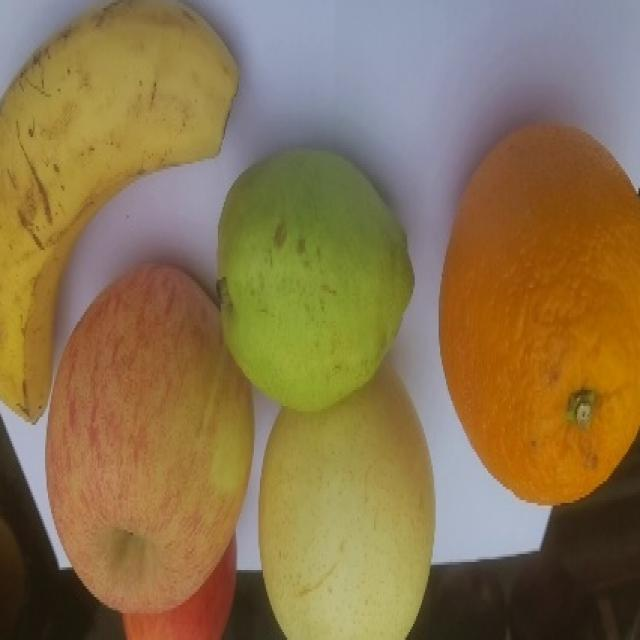Apple: (44, 260, 254, 614), (120, 532, 237, 639)
Banana: (0, 0, 240, 424)
Orange: (437, 121, 639, 506)
